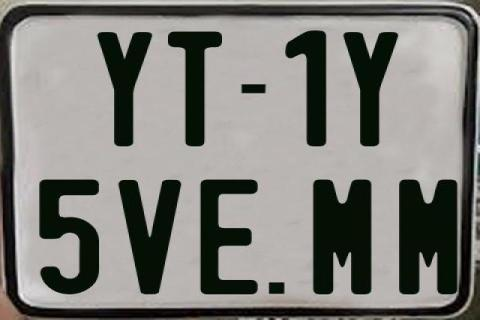0: (36, 178, 101, 294), (285, 29, 328, 149)
E: (199, 178, 261, 294)
M: (397, 177, 462, 303), (312, 177, 374, 293)
T: (166, 31, 221, 146)
V: (116, 180, 181, 299)
Y: (94, 32, 153, 150), (342, 32, 398, 150)
